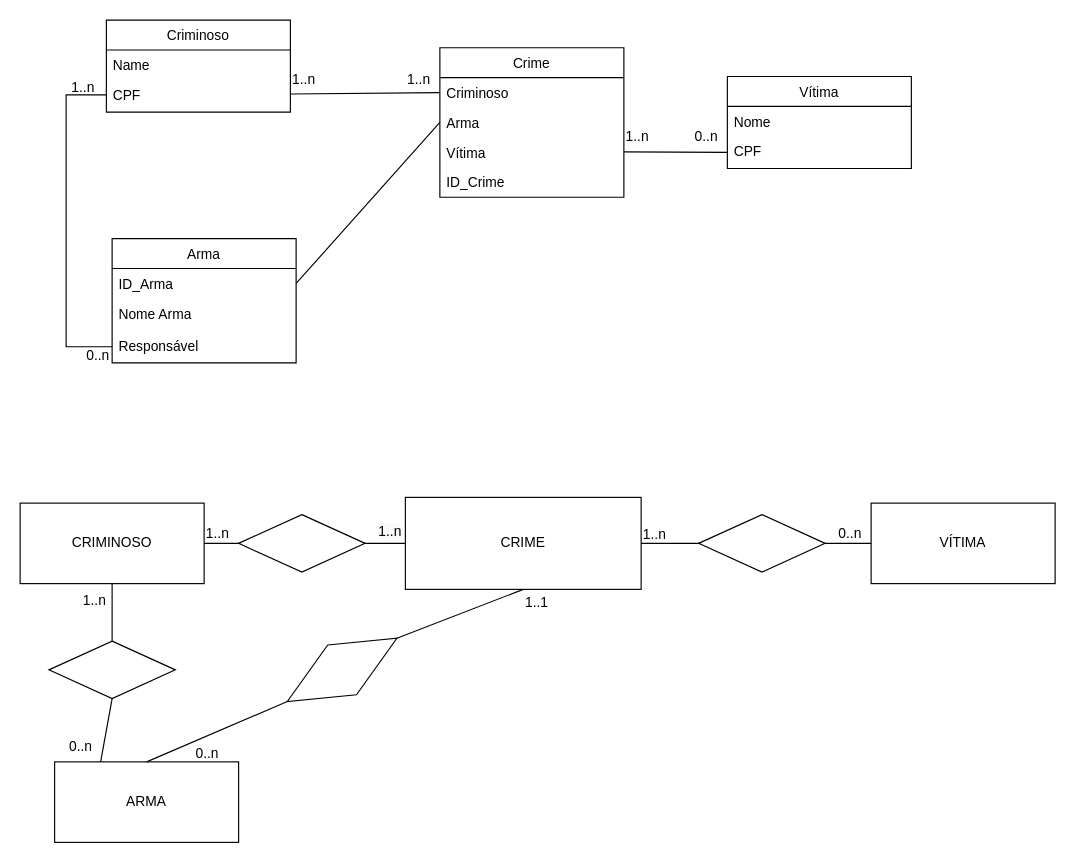
Image size: 1075x863. Some labels were removed from this diagram. Each missing label, with the centre of its shape:
"COMETE" belongs at [301,542].
"POSSUI" belongs at [111,669].
"SOFRE" belongs at [761,542].
"USADA" belongs at [341,669].
